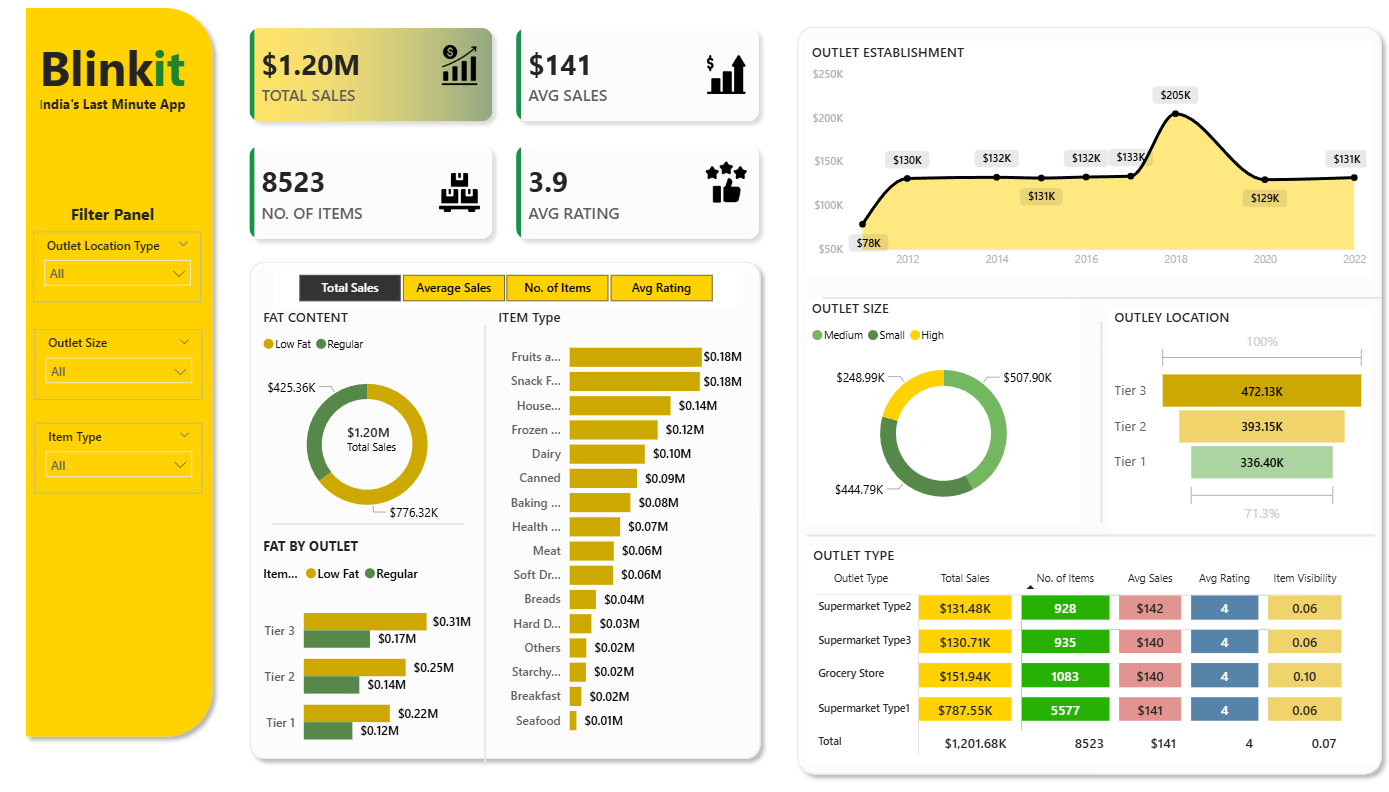

The page's visual inventory and layout, read from the dashboard file:
{"tool":"powerbi","page":{"name":"Page 1","canvas":[1400,800],"ordinal":0},"visuals":[{"type":"shape","box":[19.5,0,205.6,750.4],"z":0},{"type":"textbox","box":[37.5,30,169.6,78],"z":1000},{"type":"textbox","box":[37.5,91.6,169.6,30],"z":2000},{"type":"cardVisual","fields":{"Data":["BlinkIT Grocery Data.Total Sales","BlinkIT Grocery Data.Average Sales","BlinkIT Grocery Data.No. of Items","BlinkIT Grocery Data.Avg Rating"]},"box":[225.1,0,570.3,270.2],"z":3000},{"type":"shape","box":[244.6,255.1,531.3,517.8],"z":4000},{"type":"donutChart","title":"FAT CONTENT","fields":{"Y":["BlinkIT Grocery Data.Total Sales"],"Category":["BlinkIT Grocery Data.Item Fat Content"]},"box":[262.7,310.7,219.1,229.6],"z":5000},{"type":"slicer","fields":{"Values":["Metrics.Metrics"]},"box":[277.7,270.2,465.3,40.5],"z":6000},{"type":"cardVisual","fields":{"Data":["BlinkIT Grocery Data.Total Sales"]},"box":[322.7,400.7,120.1,81],"z":7000},{"type":"clusteredBarChart","title":"FAT BY OUTLET","fields":{"Y":["BlinkIT Grocery Data.Total Sales"],"Category":["BlinkIT Grocery Data.Outlet Location Type"],"Series":["BlinkIT Grocery Data.Item Fat Content"]},"box":[262.7,540.3,219.1,229.6],"z":8000},{"type":"shape","box":[276,515.1,193.3,25.4],"z":9000},{"type":"shape","box":[1072.1,290,16.5,225.1],"z":10000},{"type":"barChart","title":"ITEM Type","fields":{"Y":["BlinkIT Grocery Data.Total Sales"],"Category":["BlinkIT Grocery Data.Item Type"]},"box":[498.3,310.7,255.1,439.8],"z":11000},{"type":"shape","box":[794.9,19.1,605.4,769.4],"z":12000},{"type":"lineChart","title":"OUTLET ESTABLISHMENT","fields":{"Y":["BlinkIT Grocery Data.Total Sales"],"Category":["BlinkIT Grocery Data.Outlet Establishment Year"]},"box":[814,44.5,567.2,235.3],"z":13000},{"type":"shape","box":[814,527.8,571,22.9],"z":14000},{"type":"donutChart","title":"OUTLET SIZE","fields":{"Y":["BlinkIT Grocery Data.Total Sales"],"Category":["BlinkIT Grocery Data.Outlet Size"]},"box":[814,301.4,274.7,225.1],"z":15000},{"type":"shape","box":[1100.1,324.3,19.1,202.2],"z":16000},{"type":"shape","box":[482,328.1,16.5,442.6],"z":17000},{"type":"funnel","title":"OUTLEY LOCATION","fields":{"Y":["Sum(BlinkIT Grocery Data.Sales)"],"Category":["BlinkIT Grocery Data.Outlet Location Type"]},"box":[1117.9,310.3,263.3,221.3],"z":18000},{"type":"shape","box":[830.3,288.5,560.9,22.9],"z":19000},{"type":"pivotTable","title":"OUTLET TYPE","fields":{"Values":["BlinkIT Grocery Data.Total Sales","BlinkIT Grocery Data.No. of Items","BlinkIT Grocery Data.Average Sales","BlinkIT Grocery Data.Avg Rating","Avg(BlinkIT Grocery Data.Item Visibility)"],"Rows":["BlinkIT Grocery Data.Outlet Type"]},"box":[815.2,549.4,571,218.8],"z":20000},{"type":"slicer","fields":{"Values":["BlinkIT Grocery Data.Outlet Location Type"]},"box":[36.9,234,169.2,71.2],"z":21000},{"type":"slicer","fields":{"Values":["BlinkIT Grocery Data.Outlet Size"]},"box":[38.2,331.9,169.2,71.2],"z":22000},{"type":"slicer","fields":{"Values":["BlinkIT Grocery Data.Item Type"]},"box":[38.2,426.1,169.2,71.2],"z":23000},{"type":"textbox","box":[68.7,199.7,106.8,34.3],"z":24000}]}

Visuals, with their boxes in screenshot pixels (x1, y1, x2, y2), scaled from the page's 1400x800 canvas onto the 1389x792 screenshot:
shape: (x1=19, y1=0, x2=223, y2=743)
textbox: (x1=37, y1=30, x2=205, y2=107)
textbox: (x1=37, y1=91, x2=205, y2=120)
cardVisual - BlinkIT Grocery Data.Total Sales x BlinkIT Grocery Data.Average Sales: (x1=223, y1=0, x2=789, y2=267)
shape: (x1=243, y1=253, x2=770, y2=765)
"FAT CONTENT" donutChart: (x1=261, y1=308, x2=478, y2=535)
slicer - Metrics.Metrics: (x1=276, y1=267, x2=737, y2=308)
cardVisual - BlinkIT Grocery Data.Total Sales: (x1=320, y1=397, x2=439, y2=477)
"FAT BY OUTLET" clusteredBarChart: (x1=261, y1=535, x2=478, y2=762)
shape: (x1=274, y1=510, x2=466, y2=535)
shape: (x1=1064, y1=287, x2=1080, y2=510)
"ITEM Type" barChart: (x1=494, y1=308, x2=747, y2=743)
shape: (x1=789, y1=19, x2=1388, y2=781)
"OUTLET ESTABLISHMENT" lineChart: (x1=808, y1=44, x2=1370, y2=277)
shape: (x1=808, y1=523, x2=1374, y2=545)
"OUTLET SIZE" donutChart: (x1=808, y1=298, x2=1080, y2=521)
shape: (x1=1091, y1=321, x2=1110, y2=521)
shape: (x1=478, y1=325, x2=495, y2=763)
"OUTLEY LOCATION" funnel: (x1=1109, y1=307, x2=1370, y2=526)
shape: (x1=824, y1=286, x2=1380, y2=308)
"OUTLET TYPE" pivotTable: (x1=809, y1=544, x2=1375, y2=761)
slicer - BlinkIT Grocery Data.Outlet Location Type: (x1=37, y1=232, x2=204, y2=302)
slicer - BlinkIT Grocery Data.Outlet Size: (x1=38, y1=329, x2=206, y2=399)
slicer - BlinkIT Grocery Data.Item Type: (x1=38, y1=422, x2=206, y2=492)
textbox: (x1=68, y1=198, x2=174, y2=232)
